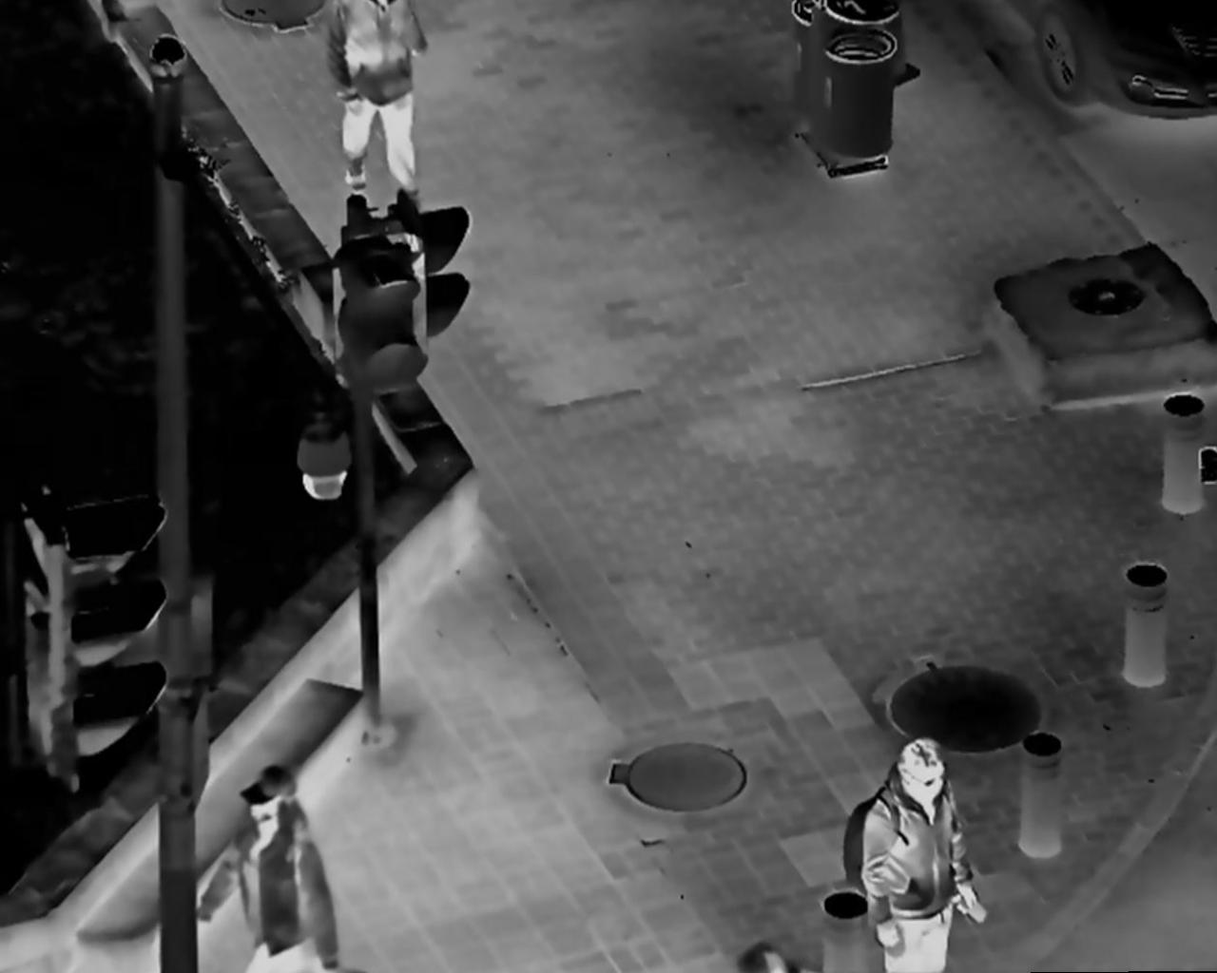person: (836, 732, 994, 973), (192, 762, 360, 973)
